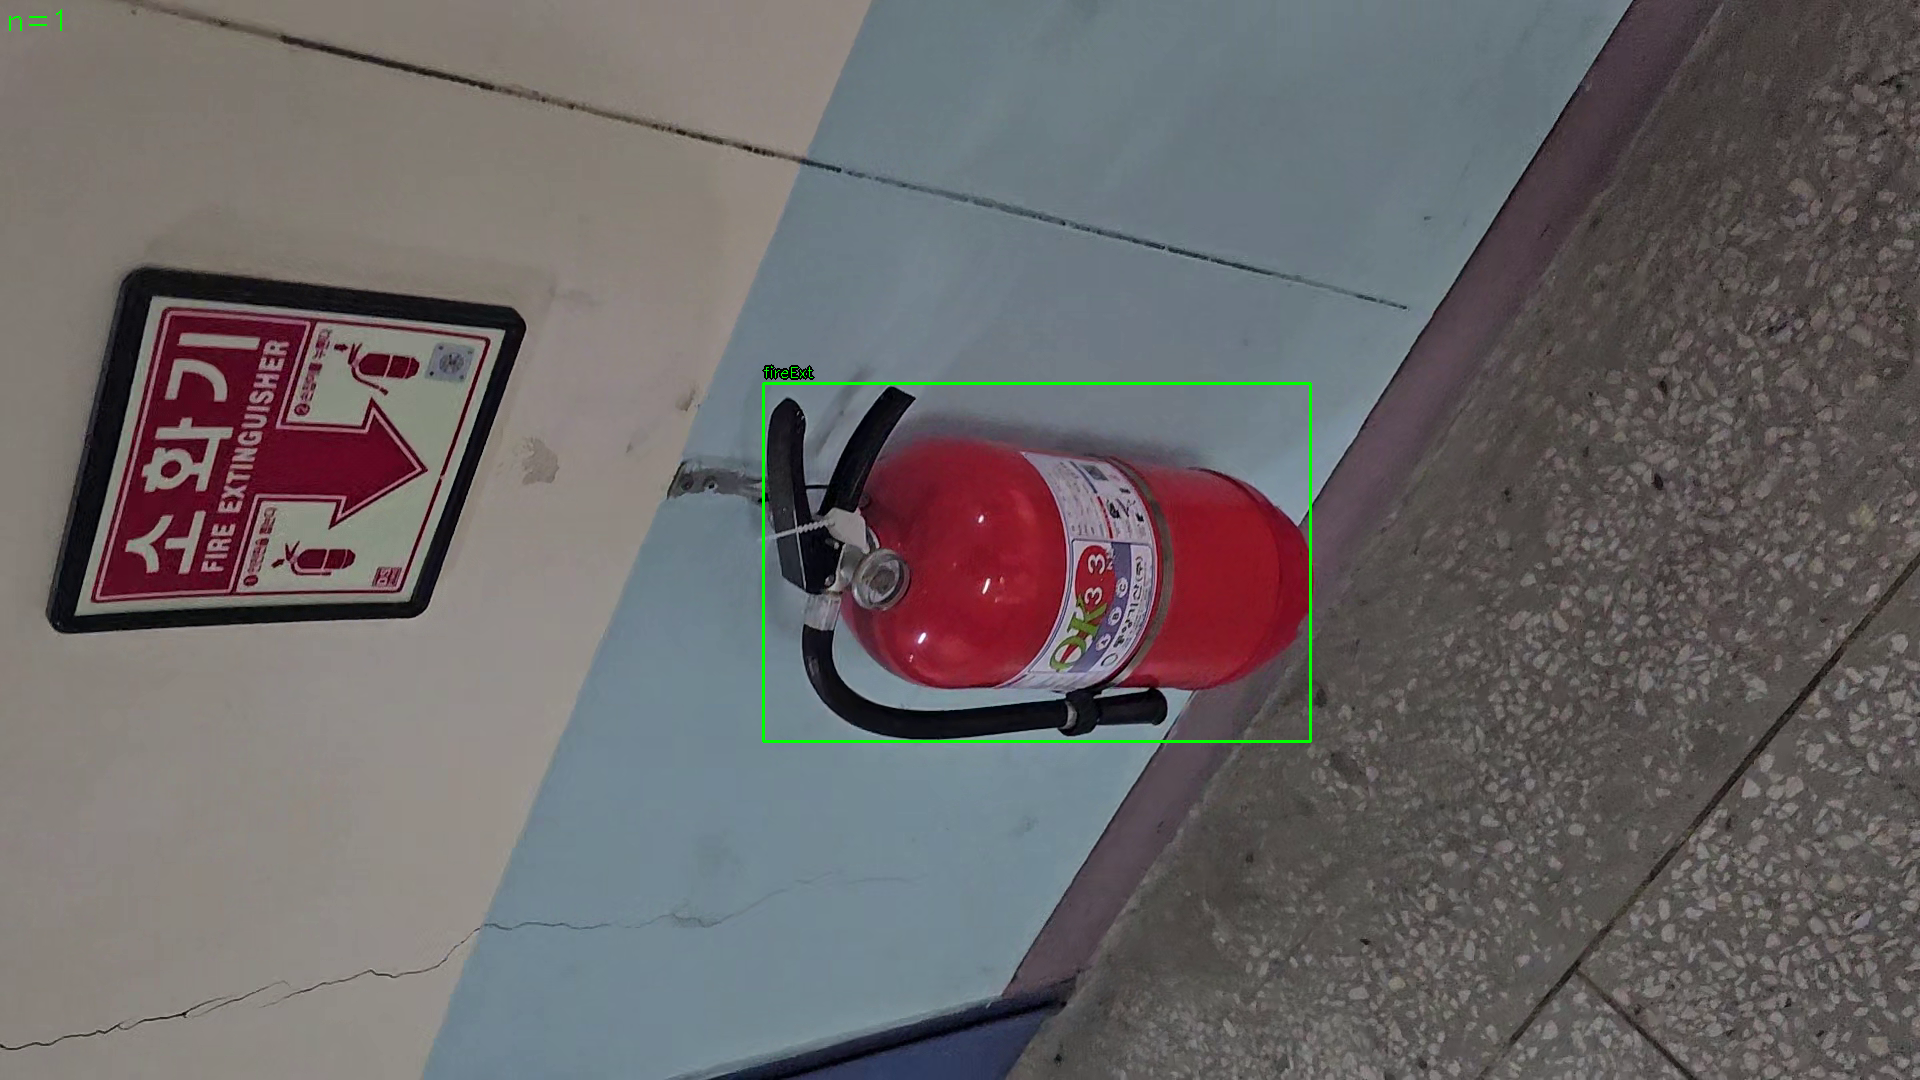lane: (764, 382, 1311, 742)
